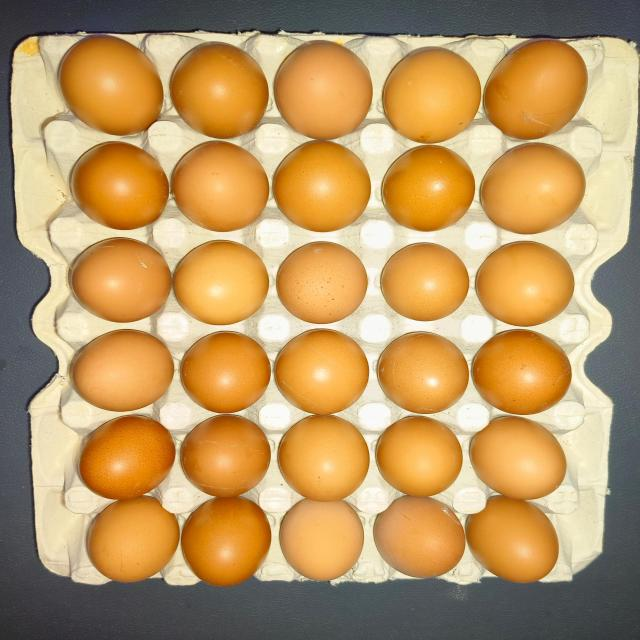Eggs: (60, 27, 162, 138), (170, 28, 266, 140), (387, 28, 475, 147), (274, 30, 371, 130), (172, 140, 272, 237), (494, 33, 584, 140), (58, 150, 170, 233), (56, 238, 169, 320), (63, 326, 173, 410), (275, 140, 375, 232), (474, 241, 580, 325), (69, 417, 177, 499), (476, 329, 576, 414), (481, 149, 587, 229), (378, 329, 473, 418), (270, 239, 370, 322), (72, 502, 180, 578), (175, 238, 267, 327), (181, 497, 273, 585), (276, 420, 374, 502), (276, 331, 374, 412), (274, 503, 370, 585), (383, 149, 475, 232), (472, 502, 567, 581), (378, 241, 469, 323), (472, 421, 570, 497), (179, 332, 272, 412), (179, 414, 271, 494), (376, 417, 464, 498), (376, 500, 466, 577)
